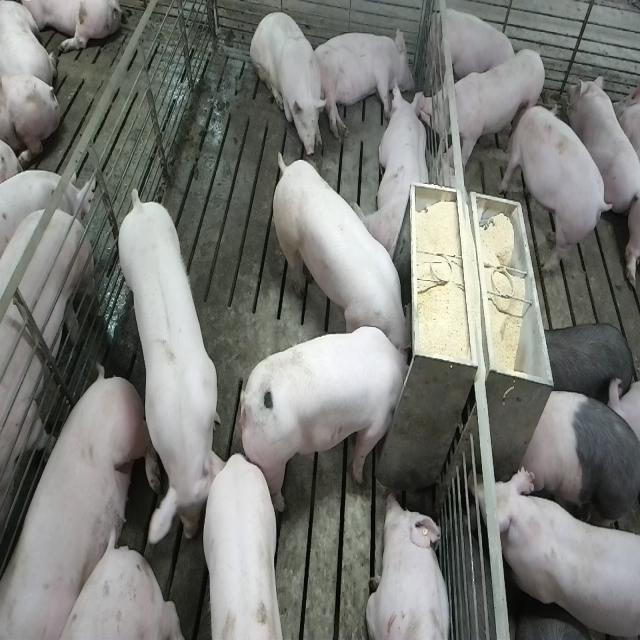Feeding: (244, 325, 419, 513), (268, 143, 410, 357)
Lateral_lying: (4, 365, 150, 640), (310, 24, 416, 138)
Sitting: (250, 9, 328, 159)
Standing: (0, 198, 98, 640), (116, 191, 222, 552), (484, 464, 638, 640), (520, 379, 638, 543), (500, 104, 612, 273), (198, 454, 288, 640), (418, 49, 546, 175)
Sternal_lying: (365, 490, 453, 640), (360, 83, 432, 265), (570, 72, 638, 220), (429, 5, 517, 91)
